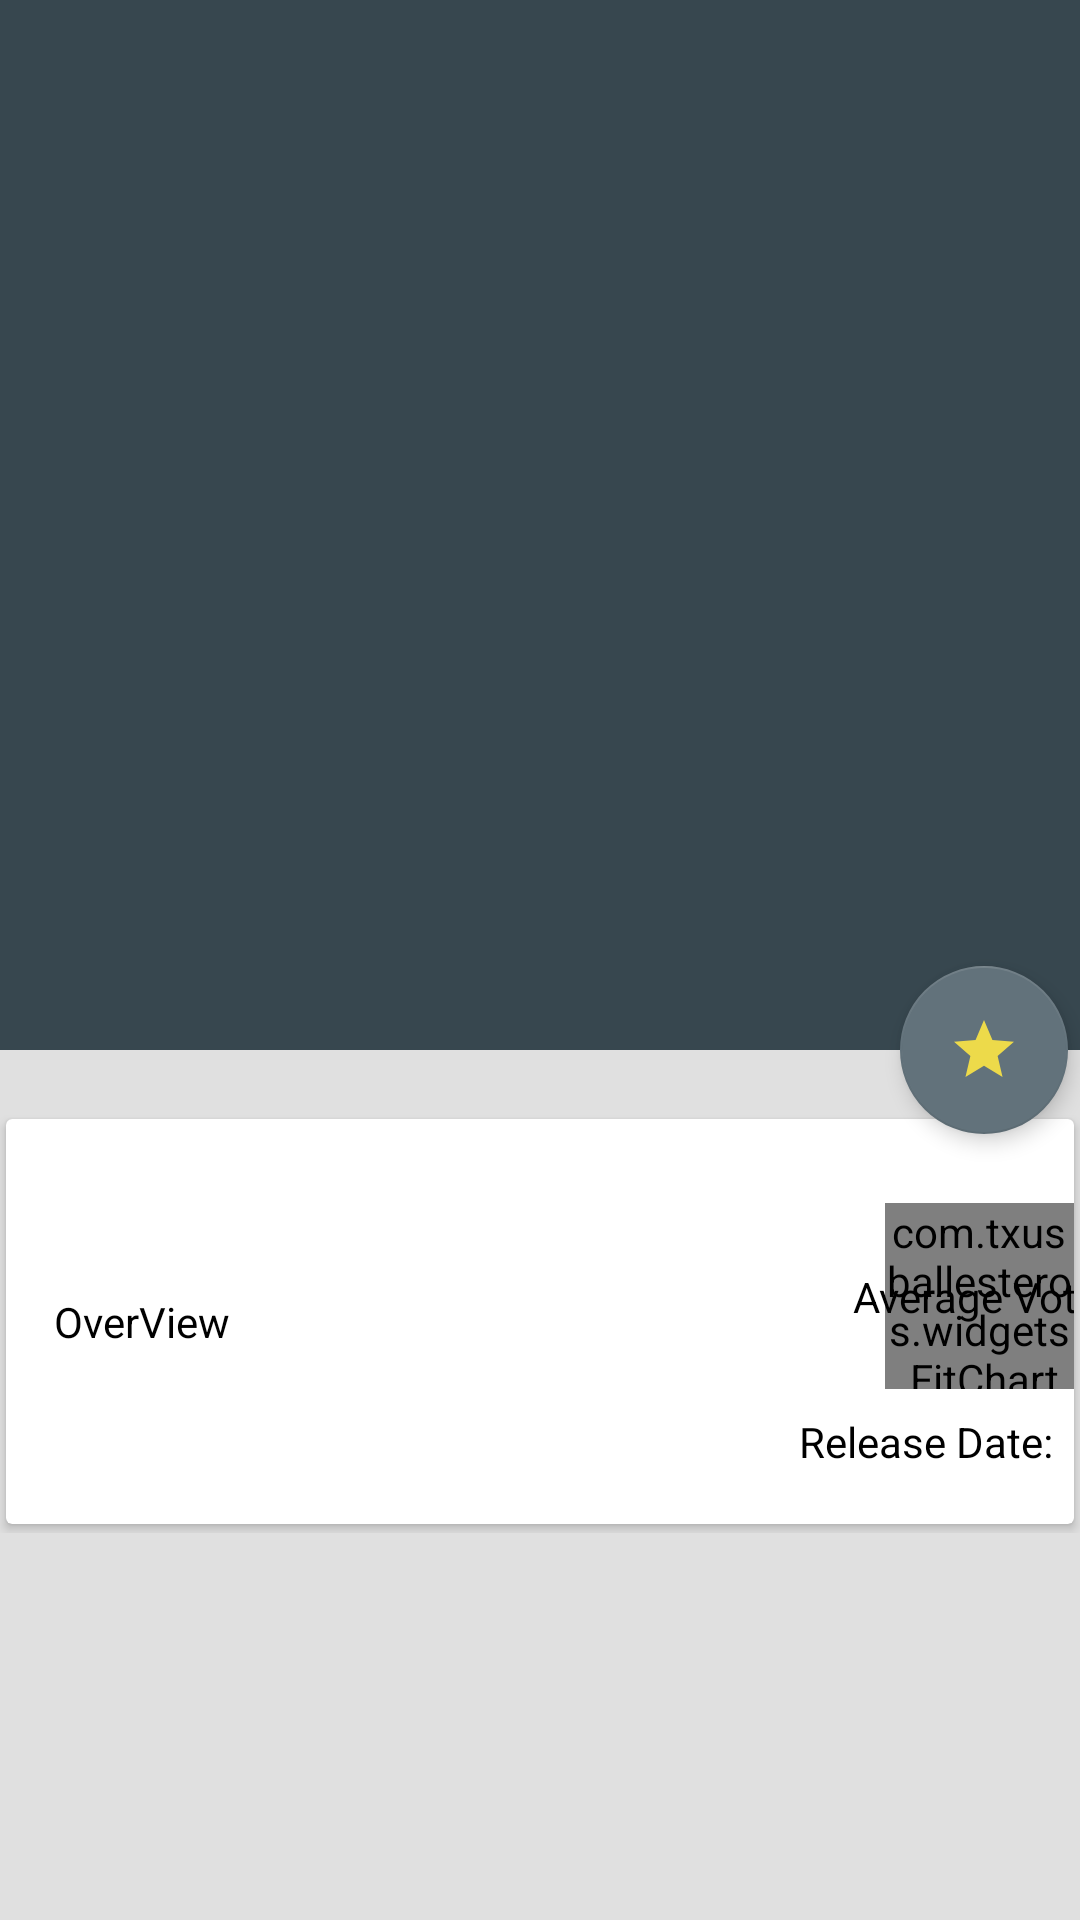

Screen size 1080w x 1920h. Icon name, then its center in pixels as point (x, y):
full star: point (984, 1050)
